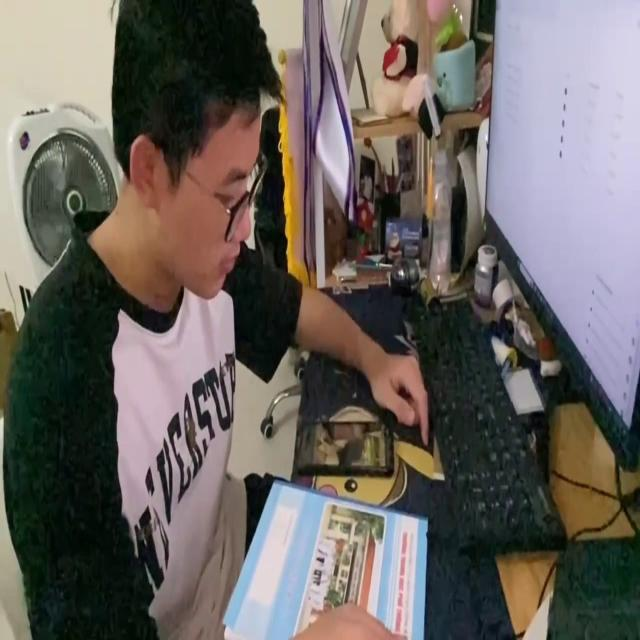book: (221, 477, 427, 640)
laptop: (483, 3, 640, 473)
phone: (295, 409, 394, 483)
student: (0, 0, 429, 640)
